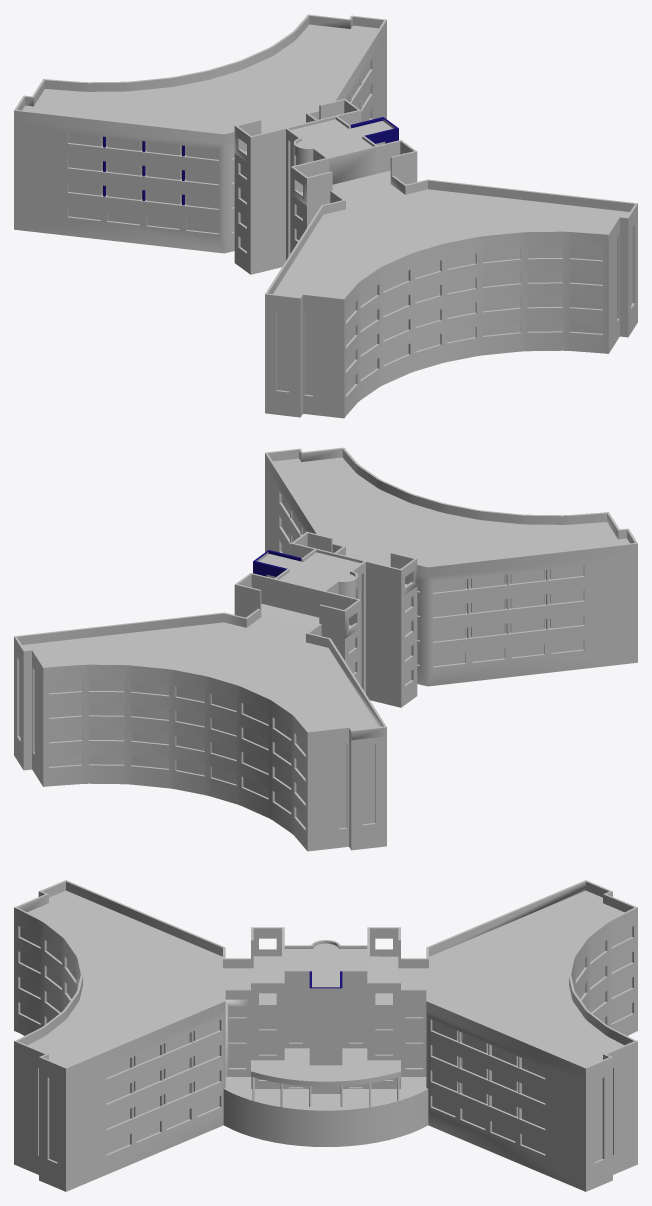
File: EDIFICIO TI.FBX
3 views of the same model, one above another, from view 1: azimuth 30°, elevation 25°; view 2: azimuth 150°, elevation 25°; view 3: azimuth 270°, elevation 25° (orthographic). The views are drawn at different scales.
Parts seen in each view (by area): view 1: CARAVISTA, SUELO TERRAZA, VENHO_TI, VERDE UJI, VENHOB_TI, VENHOA_TI, MORADOUJI; view 2: CARAVISTA, SUELO TERRAZA, VENHO_TI, VERDE UJI, VENHOB_TI, VENHOA_TI, MORADOUJI; view 3: CARAVISTA, SUELO TERRAZA, BEIGE MATE, VENHO_TI, MORADOUJI, VENHOD_TI, VERDE UJI, VENHOC_TI, VENHOB_TI.
Part boxes in pixels (bbox=[...]): CARAVISTA: bbox=[14, 14, 637, 418]; SUELO TERRAZA: bbox=[22, 24, 629, 297]; VENHO_TI: bbox=[68, 62, 602, 394]; VERDE UJI: bbox=[101, 75, 569, 359]; VENHOB_TI: bbox=[277, 228, 632, 391]; VENHOA_TI: bbox=[305, 311, 312, 395]; MORADOUJI: bbox=[350, 117, 398, 143]; CARAVISTA: bbox=[14, 447, 637, 851]; SUELO TERRAZA: bbox=[22, 457, 629, 731]; VENHO_TI: bbox=[49, 495, 583, 827]; VERDE UJI: bbox=[82, 508, 550, 792]; VENHOB_TI: bbox=[19, 661, 374, 824]; VENHOA_TI: bbox=[339, 744, 346, 828]; MORADOUJI: bbox=[253, 550, 301, 576]; CARAVISTA: bbox=[14, 880, 637, 1191]; SUELO TERRAZA: bbox=[27, 890, 624, 1110]; BEIGE MATE: bbox=[223, 1048, 428, 1146]; VENHO_TI: bbox=[20, 927, 632, 1153]; MORADOUJI: bbox=[309, 971, 342, 1093]; VENHOD_TI: bbox=[228, 1006, 423, 1079]; VERDE UJI: bbox=[40, 937, 611, 1118]; VENHOC_TI: bbox=[289, 981, 362, 1042]; VENHOB_TI: bbox=[49, 1078, 602, 1161].
Bounding box in the file's own units: 63.33 × 22.29 × 88.55.
